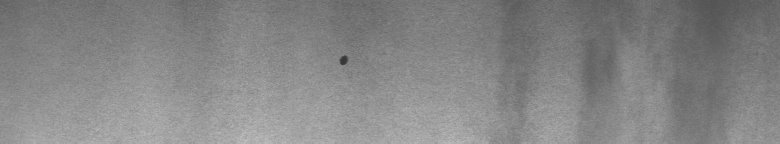fi: (324, 48, 352, 72)
